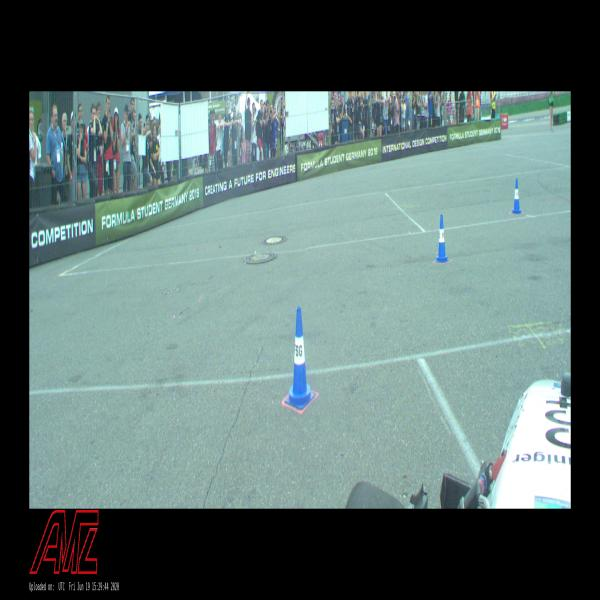blue_cone: (286, 306, 314, 410), (436, 214, 449, 263), (511, 179, 521, 213)
